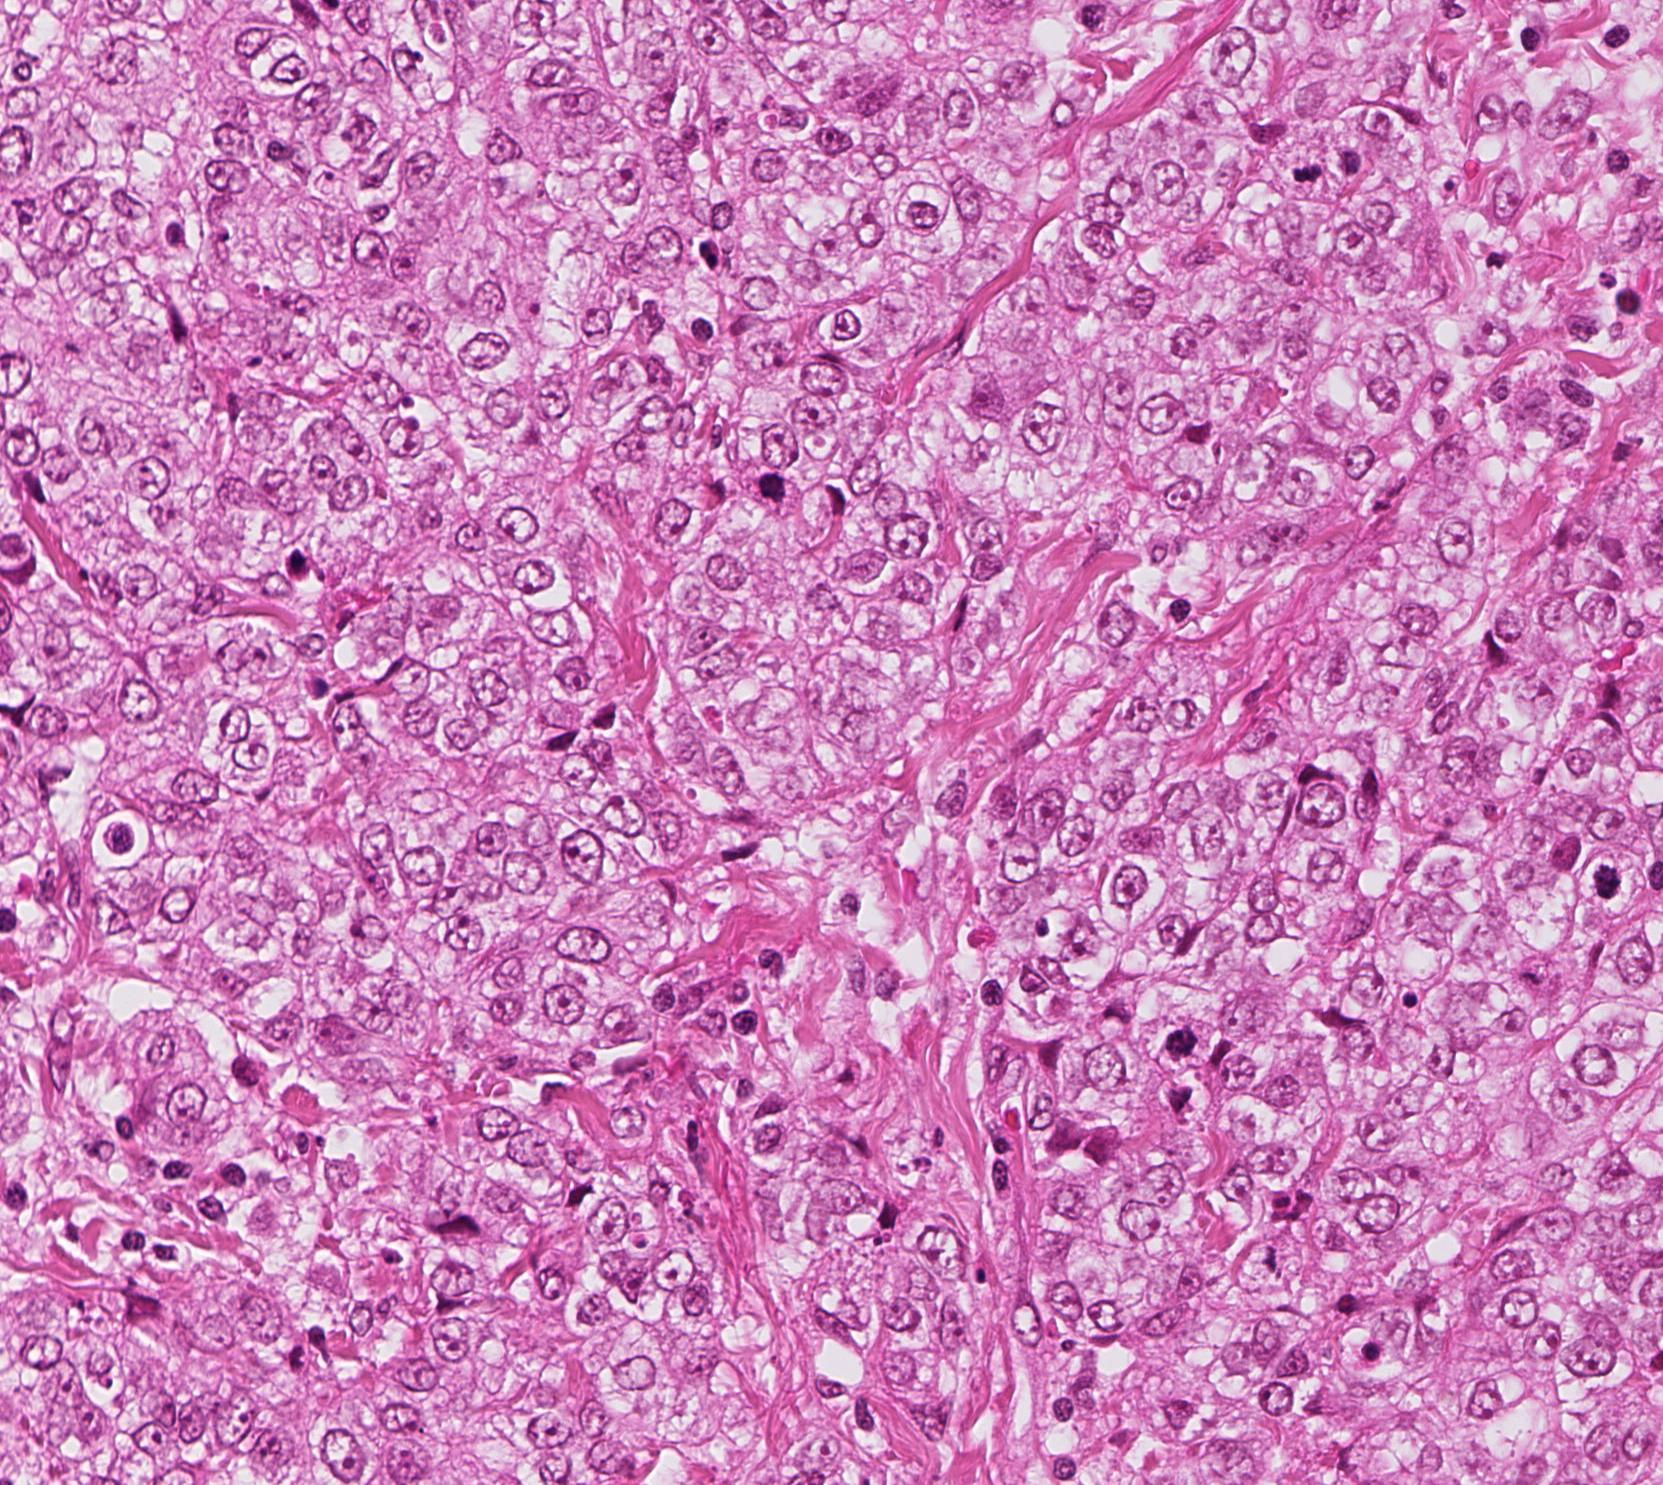mitosis: (735, 453, 796, 513), (1148, 1005, 1209, 1065), (1576, 849, 1636, 907)
